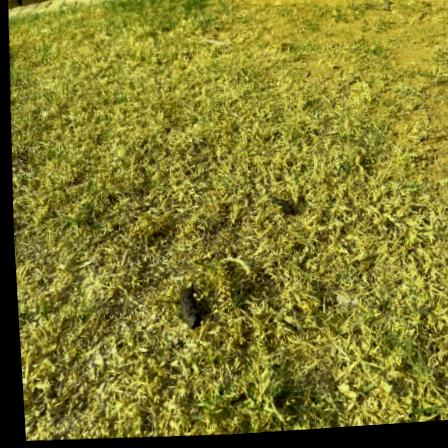dog-poop: (169, 285, 202, 328), (261, 191, 299, 224)
